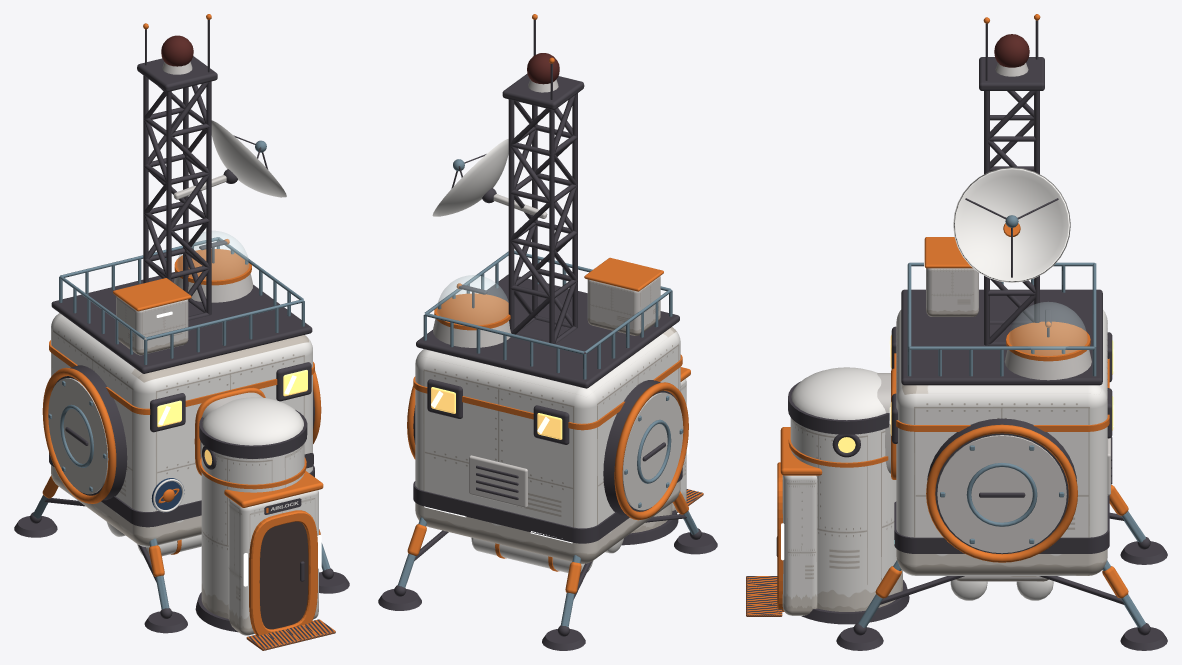
Rendered from comm-base.glb.
The picture shows the model from 3 angles, left to right: view 1: azimuth 30°, elevation 25°; view 2: azimuth 150°, elevation 25°; view 3: azimuth 270°, elevation 25°; orthographic projection. The views are drawn at different scales.
Visible parts, largest first — view 1: body_shell, mast_lattice, deck_platform, access_tower_body, hatch_door, port_hatch, door_housing, access_tower_top, deck_railing, hatch_frame, deck_cabinet, port_ring (+23 smaller); view 2: body_shell, mast_lattice, deck_platform, port_hatch, body_band_dark, deck_railing, deck_cabinet, radome_shell, port_ring, dish_bowl, radome_ring, back_panel (+15 smaller); view 3: body_shell, access_tower_body, deck_platform, port_hatch, dish_bowl, door_housing, mast_lattice, port_ring, access_tower_top, radome_shell, deck_railing, deck_cabinet (+20 smaller).
Part boxes in pixels (box(x1,y1,x2,y2)): body_shell: box(51, 313, 312, 547); mast_lattice: box(143, 75, 211, 320); deck_platform: box(51, 272, 312, 373); access_tower_body: box(201, 443, 304, 618); hatch_door: box(259, 521, 308, 629); port_hatch: box(48, 378, 108, 494); door_housing: box(228, 490, 318, 635); access_tower_top: box(202, 397, 303, 445); deck_railing: box(59, 237, 304, 364); hatch_frame: box(249, 510, 317, 635); deck_cabinet: box(116, 296, 188, 355); port_ring: box(42, 367, 116, 503); body_shell: box(415, 327, 680, 563); mast_lattice: box(508, 93, 577, 344); deck_platform: box(416, 274, 679, 388); port_hatch: box(622, 392, 683, 510); body_band_dark: box(413, 468, 682, 543); deck_railing: box(423, 250, 672, 379); deck_cabinet: box(587, 276, 660, 335); radome_shell: box(437, 275, 508, 324); port_ring: box(614, 382, 688, 520); dish_bowl: box(432, 139, 508, 216); radome_ring: box(434, 293, 510, 330); back_panel: box(469, 455, 527, 507); body_shell: box(896, 310, 1107, 575); access_tower_body: box(790, 417, 902, 611); deck_platform: box(901, 289, 1102, 385); port_hatch: box(937, 435, 1066, 553); dish_bowl: box(953, 167, 1070, 282); door_housing: box(782, 475, 817, 615); mast_lattice: box(984, 91, 1039, 345); port_ring: box(926, 424, 1077, 562); access_tower_top: box(791, 367, 885, 420); radome_shell: box(1009, 302, 1087, 355); deck_railing: box(907, 262, 1096, 376); deck_cabinet: box(926, 268, 978, 316).
Size of the model in its own units: 4.06 by 9.97 by 6.39.
Materials: 18 (4 with a texture image).
